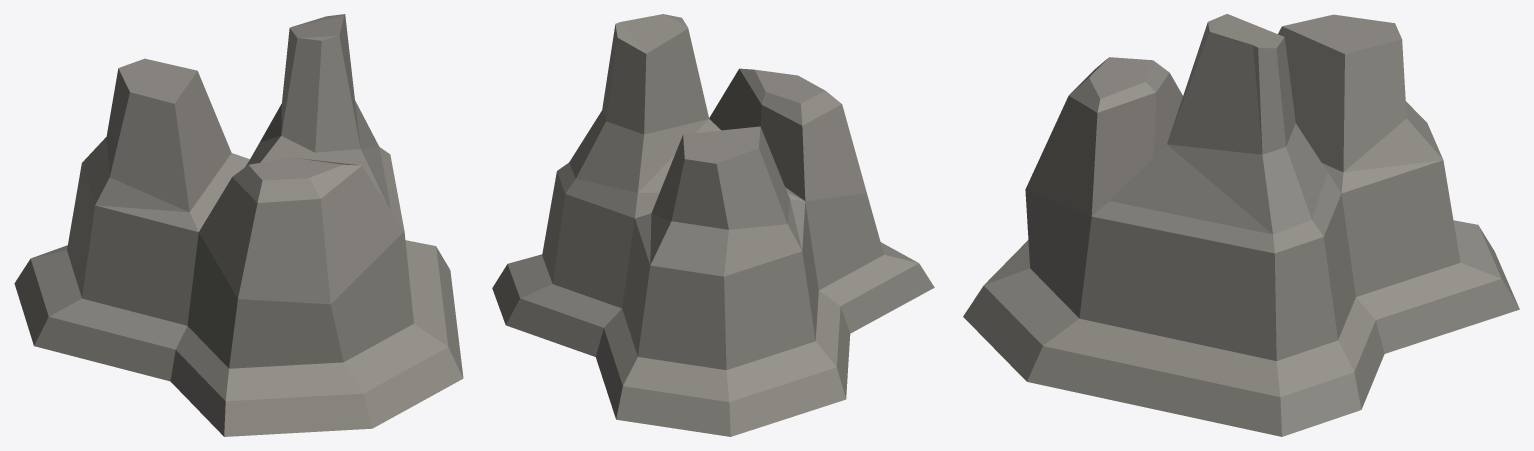
Rendered from Rock_Round_l_07.fbx.
3 views of the same model, side by side, from view 1: azimuth 30°, elevation 25°; view 2: azimuth 150°, elevation 25°; view 3: azimuth 270°, elevation 25° (orthographic). The views are drawn at different scales.
Parts seen in each view (by area): view 1: Rock_Round_l_07; view 2: Rock_Round_l_07; view 3: Rock_Round_l_07.
Part boxes in pixels (x1,y1,x2,y2): Rock_Round_l_07: (14, 14, 463, 436); Rock_Round_l_07: (492, 14, 934, 436); Rock_Round_l_07: (963, 14, 1519, 436).
Size of the model in its own units: 231 by 166 by 255.
